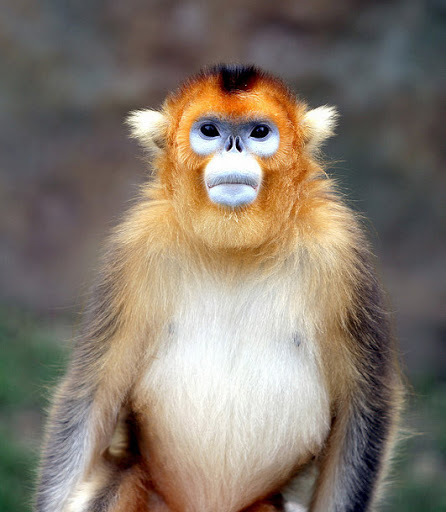GoldenSnub-Nosed: (73, 50, 405, 512)
